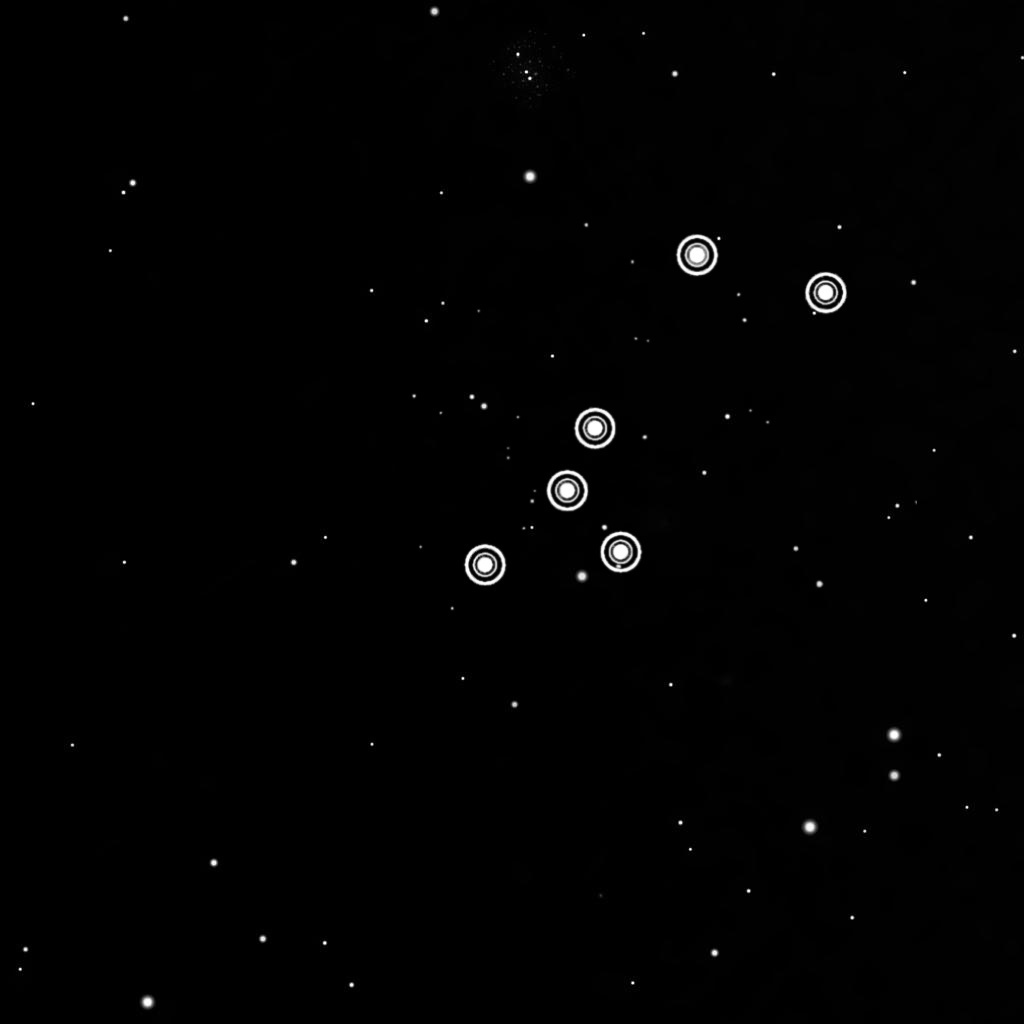canis_major: (460, 226, 867, 593)
